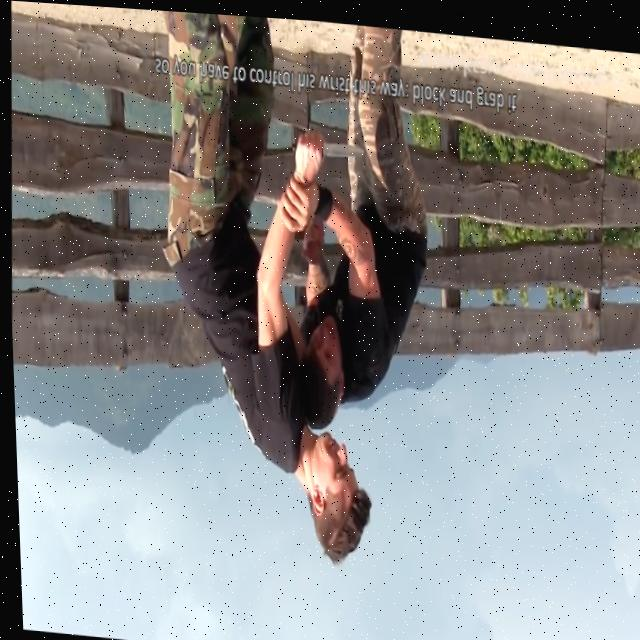knife: (319, 136, 364, 155)
